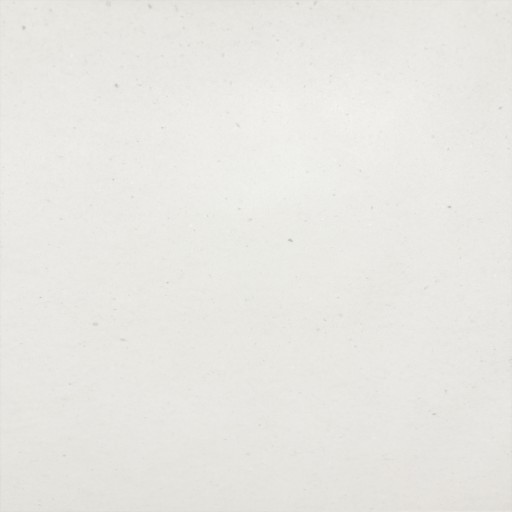lego: (226, 228, 285, 285)
